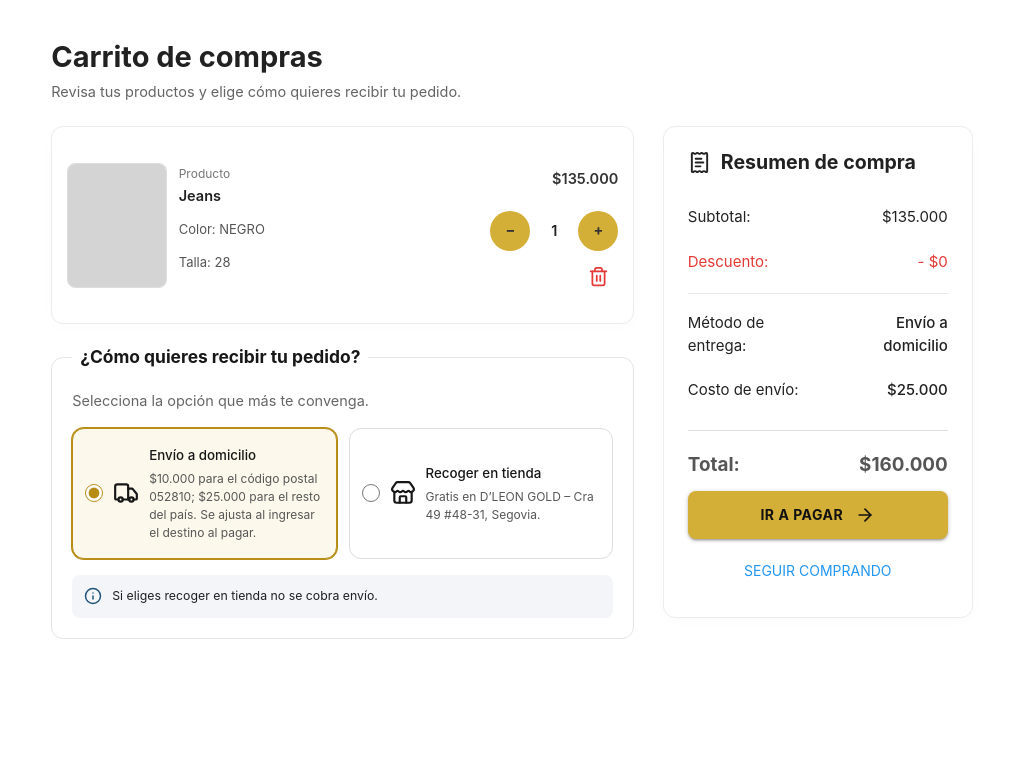
domicilio conserva 25000 y recogida elimina solo el envío
Expected: the element with class "summary-total" shows "$160.000", [688,430,948,479]
Click the radio button labelled "Recoger en tienda" at (370, 494), box [362,484,380,502]
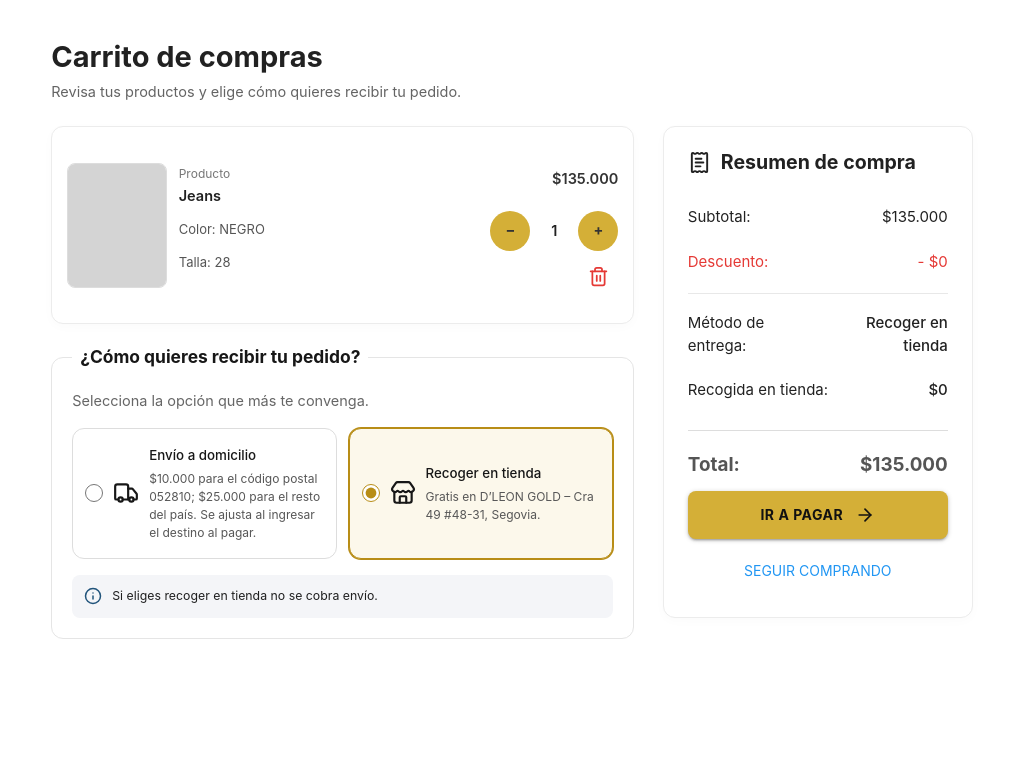
Expected: the button "IR A PAGAR" is enabled, [688,491,948,539]
Expected: the element with class "summary-total" shows "$135.000", [688,430,948,479]
Expected: the text "Recogida en tienda:" is shown, [688,379,828,402]
Click the radio button labelled "Envío a domicilio" at (94, 494), box [85,484,103,502]
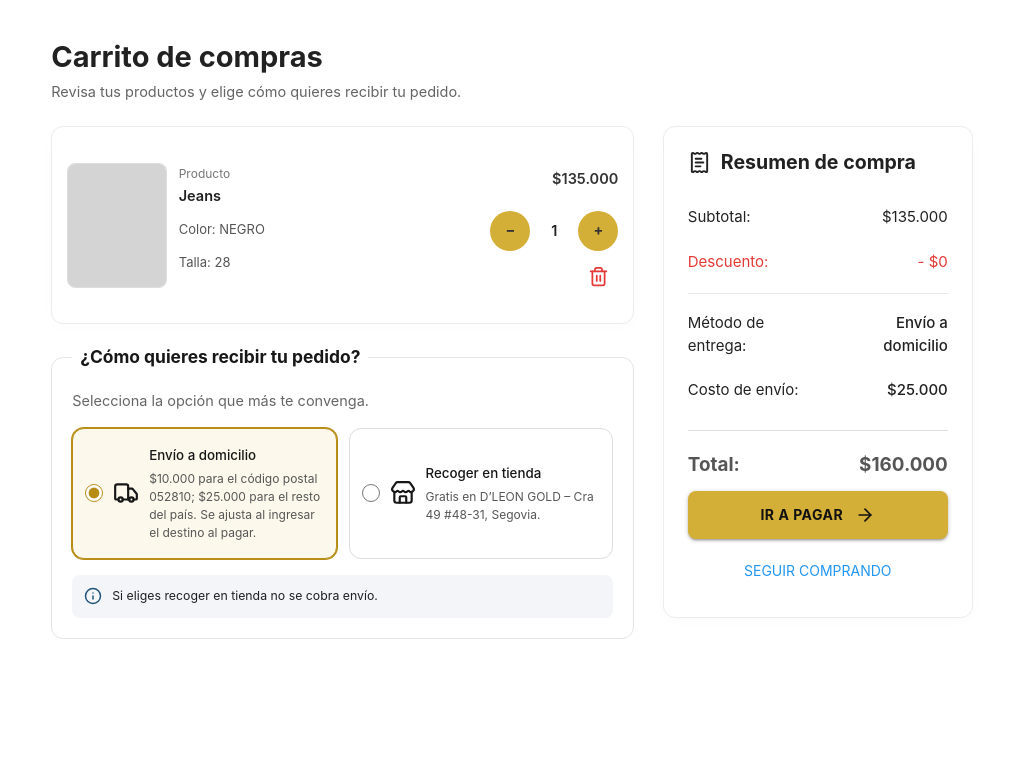
Expected: the element with class "summary-total" shows "$160.000", [688,430,948,479]
